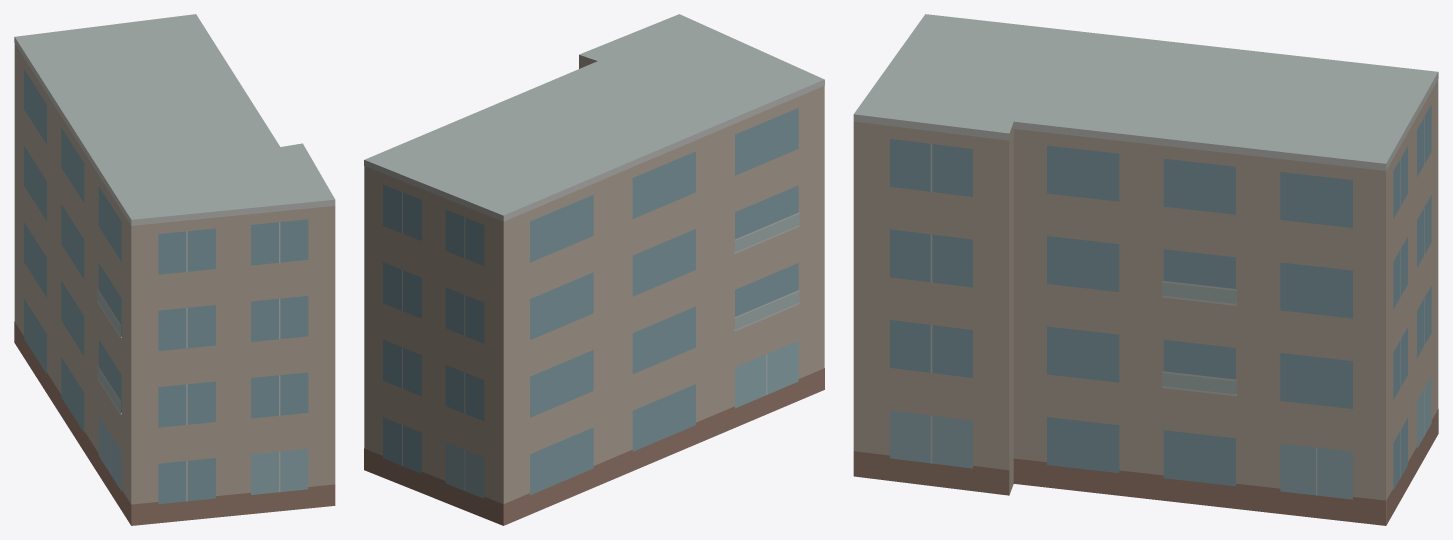
Rendered from survey-upis-32878597.glb.
3 renders of one model, left to right at view 1: azimuth 30°, elevation 25°; view 2: azimuth 150°, elevation 25°; view 3: azimuth 270°, elevation 25°, orthographic. The views are drawn at different scales.
Visible parts, largest first — view 1: survey-upis-32878597.tmp; view 2: survey-upis-32878597.tmp; view 3: survey-upis-32878597.tmp.
Part boxes in pixels (<box>): survey-upis-32878597.tmp: <box>14,14,335,525</box>; survey-upis-32878597.tmp: <box>364,14,824,525</box>; survey-upis-32878597.tmp: <box>853,14,1438,525</box>.
Size of the model in its own units: 10.92 by 12.3 by 18.02.
